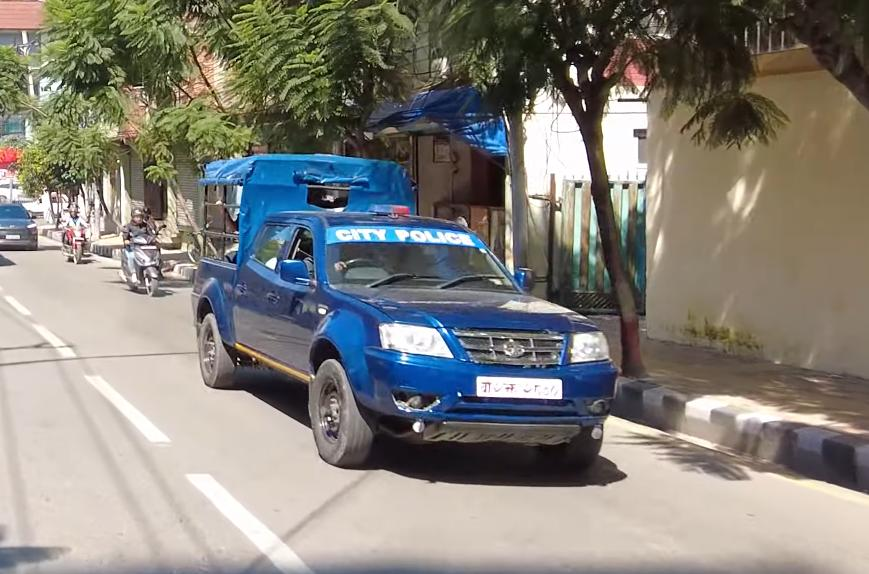bike: (57, 219, 95, 265)
car: (0, 201, 42, 255)
police_vehicle: (192, 148, 626, 485)
scooter: (115, 227, 168, 297)
